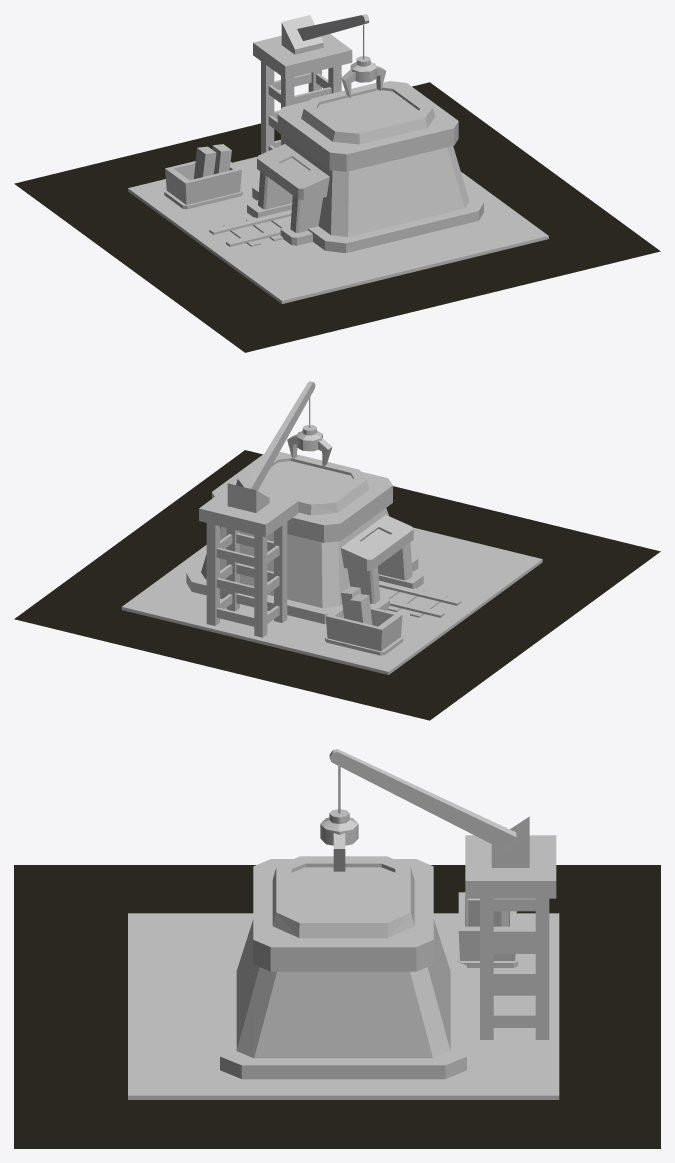
The model's file is yelianchang_01.FBX.
3 renders of one model, top to bottom at view 1: azimuth 30°, elevation 25°; view 2: azimuth 150°, elevation 25°; view 3: azimuth 270°, elevation 25°, orthographic. The views are drawn at different scales.
Visible parts, largest first — view 1: yelianchang_01, Plane001; view 2: yelianchang_01, Plane001; view 3: yelianchang_01, Plane001.
Boxes of the visible parts, x1,y1,x2,y2 form: yelianchang_01: [128, 14, 548, 303]; Plane001: [14, 82, 660, 352]; yelianchang_01: [121, 381, 542, 674]; Plane001: [14, 450, 660, 720]; yelianchang_01: [128, 749, 559, 1099]; Plane001: [14, 865, 660, 1148].
Bounding box in the file's own units: 1430 × 655 × 1377.
